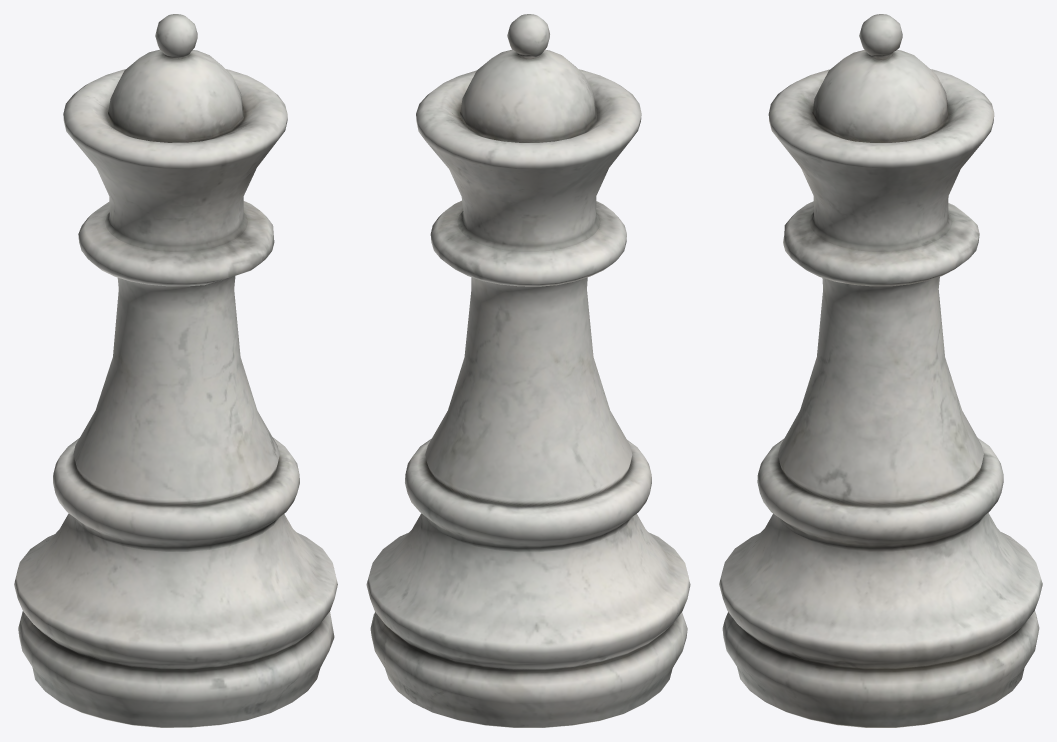
File: chess-set-1k-piece-queen-white.glb
3 views of the same model, side by side, from view 1: azimuth 30°, elevation 25°; view 2: azimuth 150°, elevation 25°; view 3: azimuth 270°, elevation 25° (orthographic).
Visible parts, largest first — view 1: piece_queen_white; view 2: piece_queen_white; view 3: piece_queen_white.
Boxes of the visible parts, x1,y1,x2,y2 form: piece_queen_white: (14, 14, 337, 727); piece_queen_white: (366, 14, 690, 727); piece_queen_white: (719, 14, 1042, 727).
Bounding box in the file's own units: 0.0406 × 0.0907 × 0.0408.
Materials: 1 (1 with a texture image).
